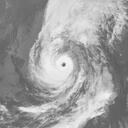cyclone: (37, 39, 83, 91)
